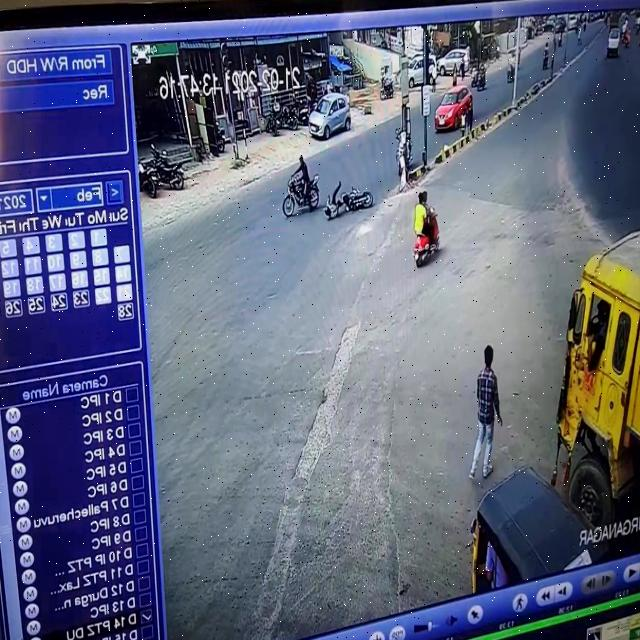accident: (314, 170, 378, 232)
